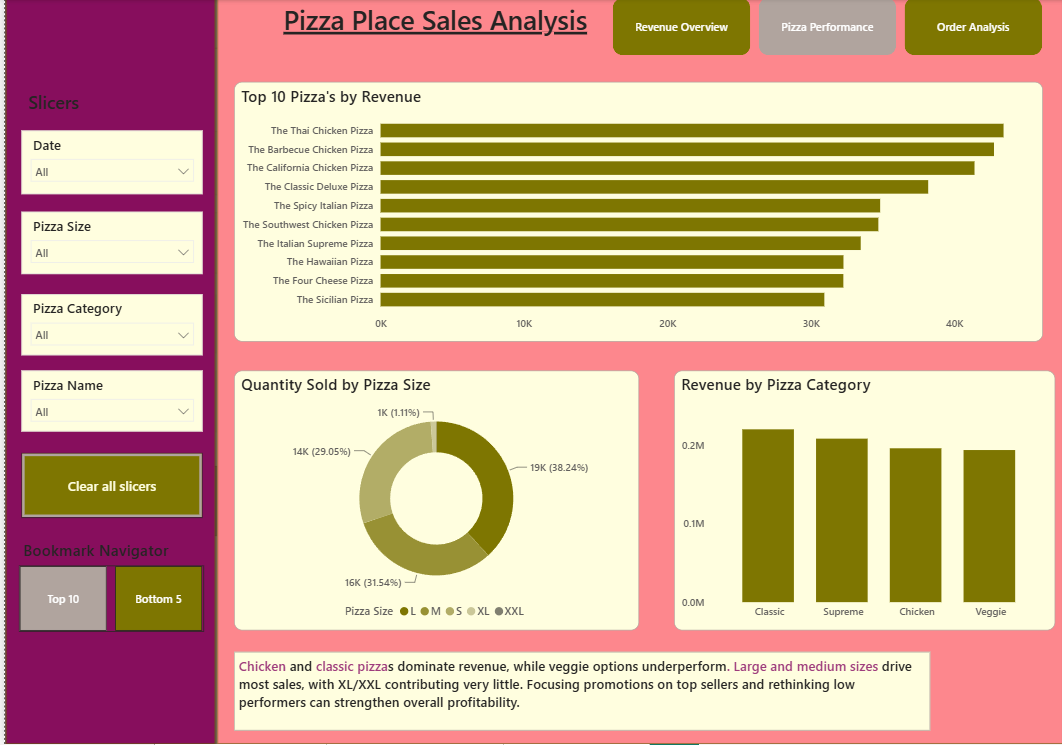

Layout of this report page (visuals, bound fields, positions):
{"tool":"powerbi","page":{"name":"Pizza Performance ","canvas":[1280,900],"ordinal":1},"visuals":[{"type":"slicer","fields":{"Values":["pizza_types.category"]},"box":[21.1,357.4,218.7,73.9],"z":0},{"type":"slicer","fields":{"Values":["pizzas.size"]},"box":[21.1,257.9,218.7,75.4],"z":1000},{"type":"slicer","fields":{"Values":["orders.date"]},"box":[21.1,159.9,218.7,76.9],"z":2000},{"type":"slicer","fields":{"Values":["pizza_types.name"]},"box":[21.1,449.4,218.7,73.9],"z":3000},{"type":"textbox","box":[322.7,0,395.1,61.8],"z":4000},{"type":"actionButton","box":[21.1,548.9,218.7,78.4],"z":5000},{"type":"textbox","box":[24.5,105.5,93.2,55],"z":6000},{"type":"barChart","title":"Top 10 Pizza''s by Revenue","fields":{"Y":["Measures (2).Total Revenue"],"Category":["pizza_types.name"]},"box":[277.5,101,975.7,313.7],"z":7000},{"type":"columnChart","title":"Revenue by Pizza Category","fields":{"Y":["Measures (2).Total Revenue"],"Category":["pizza_types.category"]},"box":[808.3,449.4,460,313.7],"z":8000},{"type":"donutChart","fields":{"Y":["Sum(order_details.quantity)"],"Category":["pizzas.size"]},"box":[277.5,449.4,488.6,313.7],"z":9000},{"type":"textbox","box":[17.4,648.5,189.4,37.9],"z":11000},{"type":"textbox","box":[277.5,788.7,840,95],"z":12000},{"type":"pageNavigator","box":[734.4,0,518.8,69.4],"z":12001},{"type":"bookmarkNavigator","box":[17.8,685.3,223.1,80.3],"z":12002}]}

Visuals, with their boxes in screenshot pixels (x1, y1, x2, y2), scaled from the page's 1280x900 canvas onto the 1062x745 screenshot:
slicer - pizza_types.category: {"x1": 18, "y1": 296, "x2": 199, "y2": 357}
slicer - pizzas.size: {"x1": 18, "y1": 213, "x2": 199, "y2": 276}
slicer - orders.date: {"x1": 18, "y1": 132, "x2": 199, "y2": 196}
slicer - pizza_types.name: {"x1": 18, "y1": 372, "x2": 199, "y2": 433}
textbox: {"x1": 268, "y1": 0, "x2": 596, "y2": 51}
actionButton: {"x1": 18, "y1": 454, "x2": 199, "y2": 519}
textbox: {"x1": 20, "y1": 87, "x2": 98, "y2": 133}
"Top 10 Pizza''s by Revenue" barChart: {"x1": 230, "y1": 84, "x2": 1040, "y2": 343}
"Revenue by Pizza Category" columnChart: {"x1": 671, "y1": 372, "x2": 1052, "y2": 632}
donutChart - Sum(order_details.quantity) x pizzas.size: {"x1": 230, "y1": 372, "x2": 636, "y2": 632}
textbox: {"x1": 14, "y1": 537, "x2": 172, "y2": 568}
textbox: {"x1": 230, "y1": 653, "x2": 927, "y2": 732}
pageNavigator: {"x1": 609, "y1": 0, "x2": 1040, "y2": 57}
bookmarkNavigator: {"x1": 15, "y1": 567, "x2": 200, "y2": 634}
